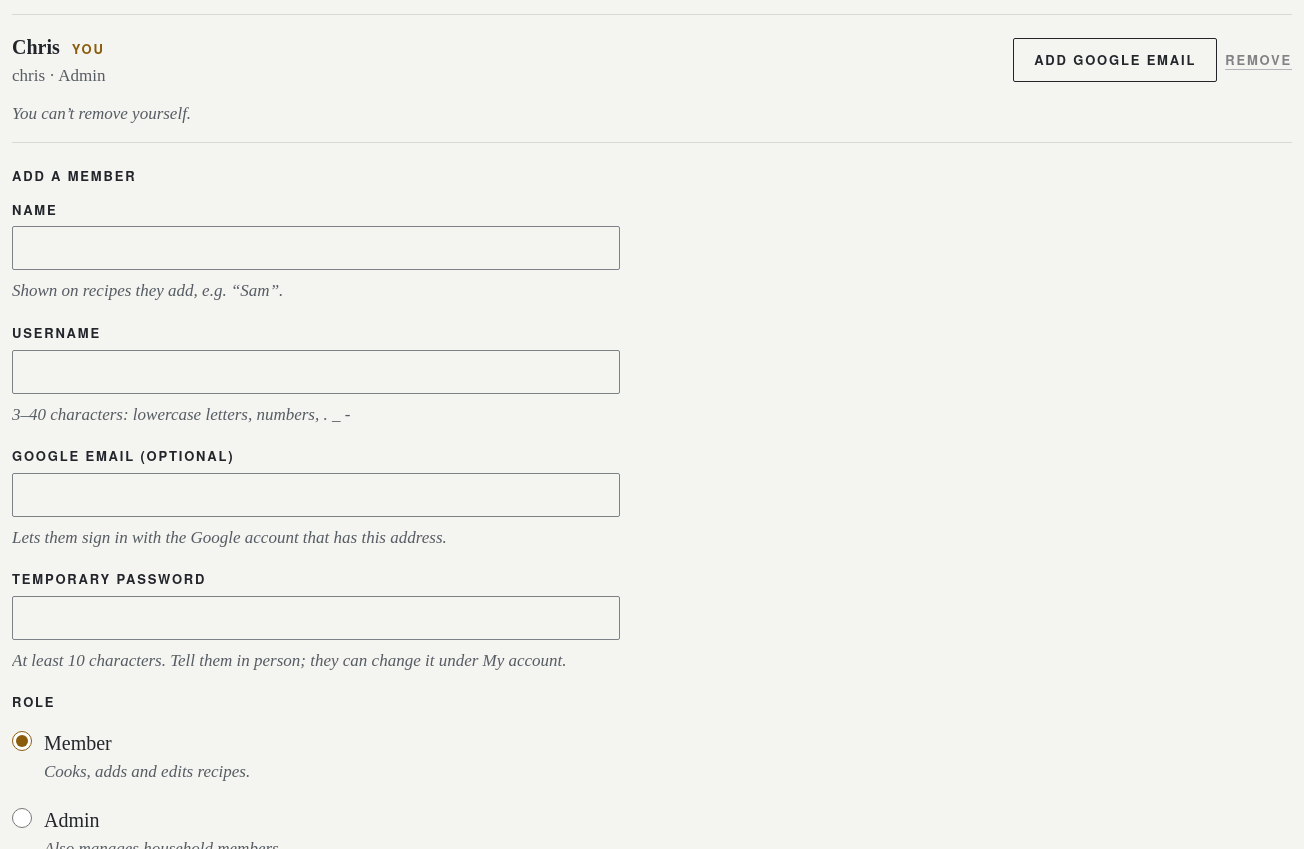
HouseholdSection › shows a taken username on the username field
The image size is (1304, 849).
Type "Sam" into the field labelled "Name" at (316, 248), box [12,226,620,270]
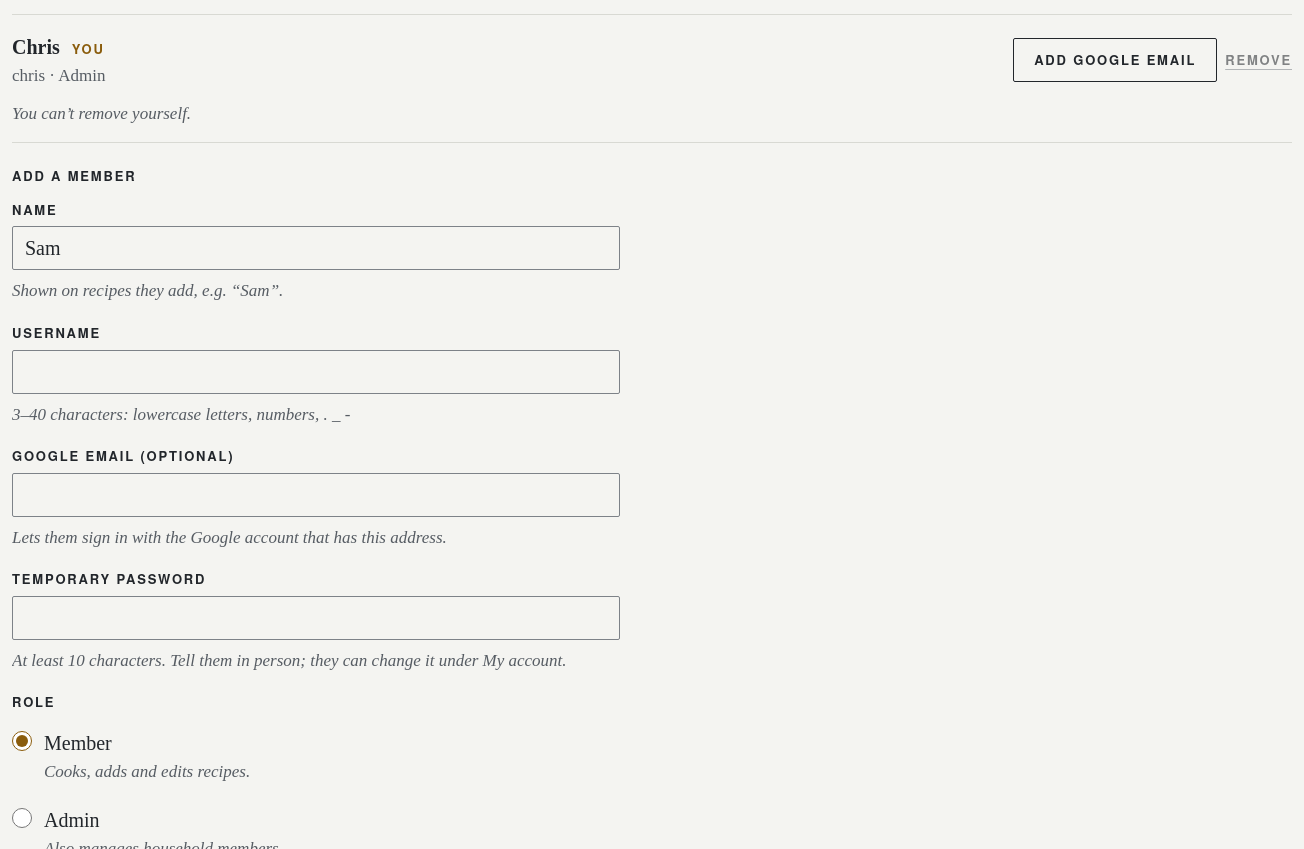
Type "sam" into the field labelled "Username" at (316, 372), box [12,350,620,394]
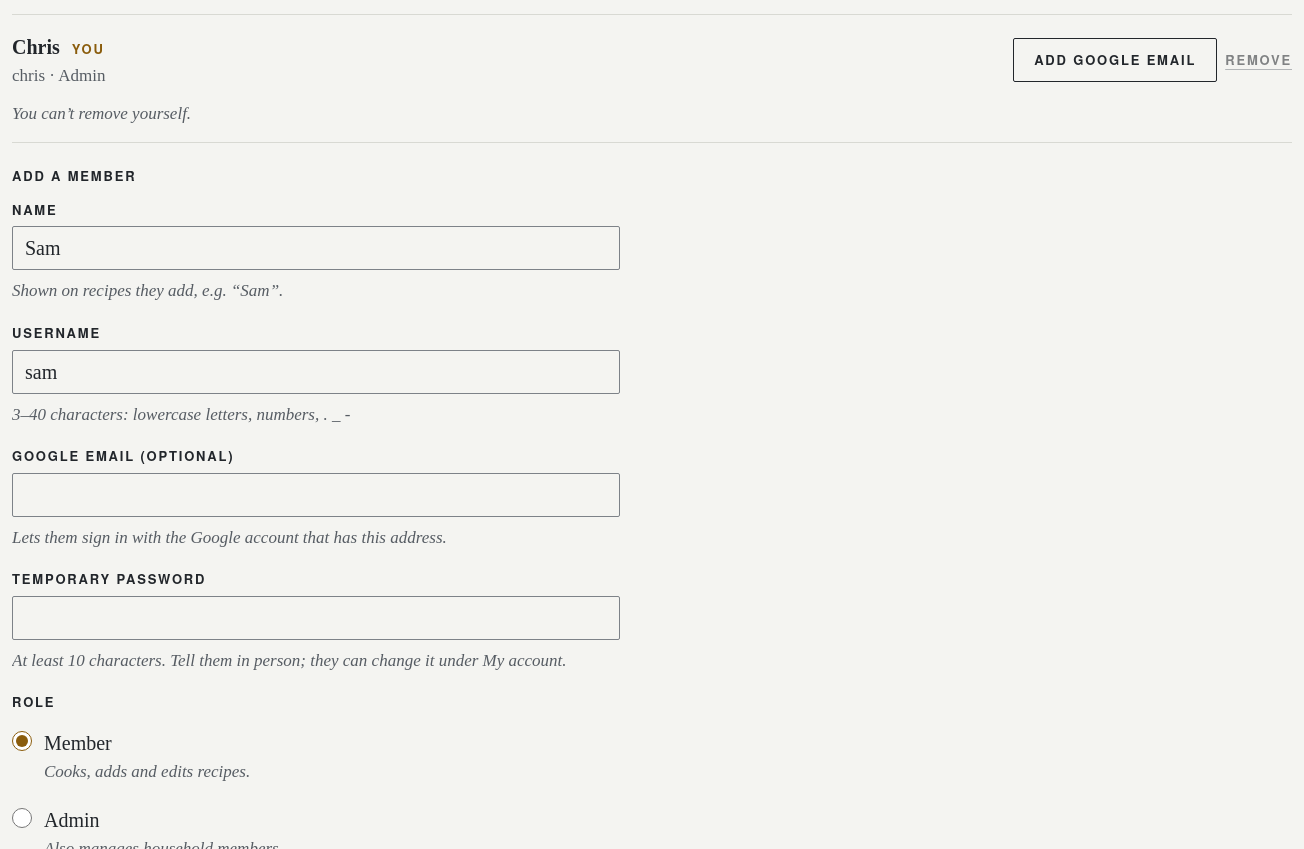
Type "longenough1" into the password field labelled "Temporary password" at (316, 618), box [12,596,620,640]
(page scrolled)
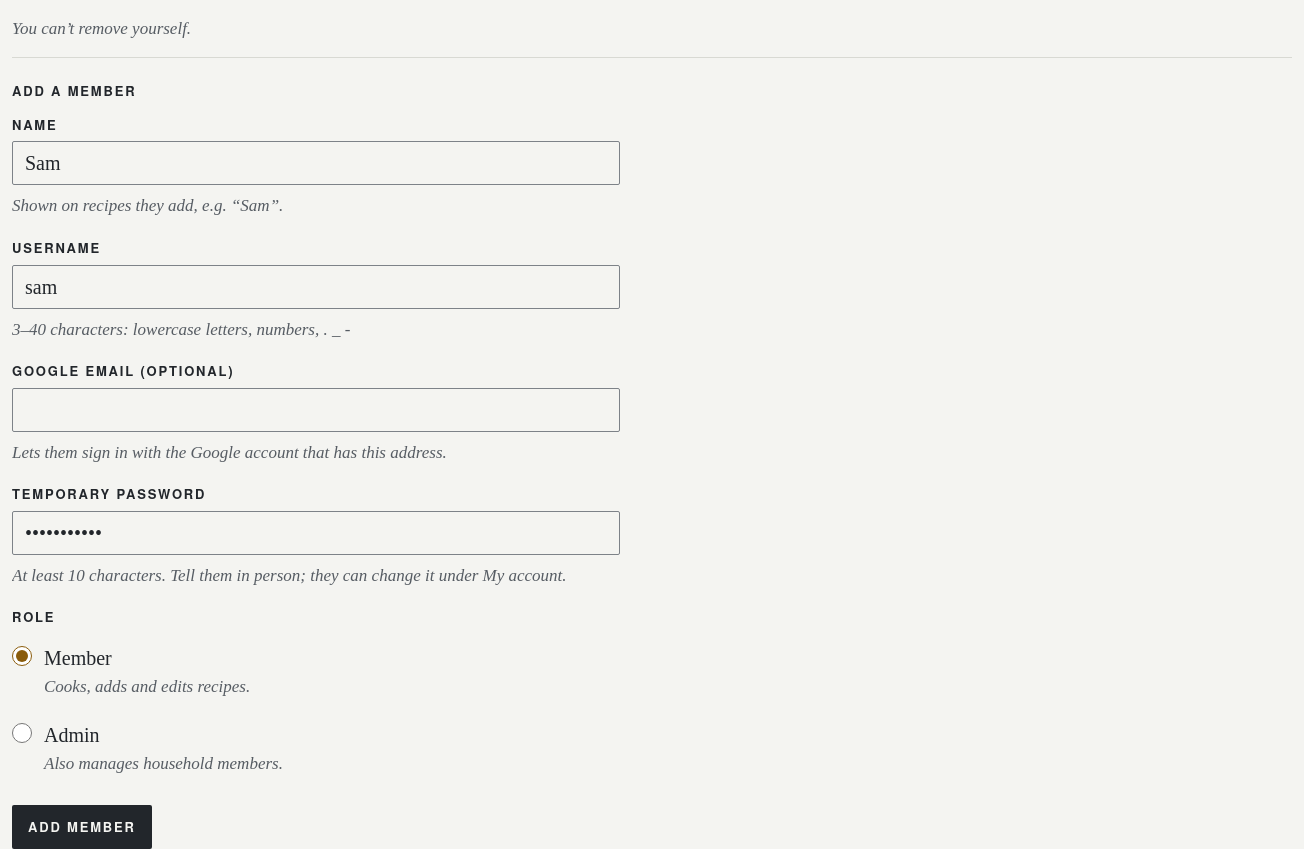
Submit the form, box [12,116,620,848]
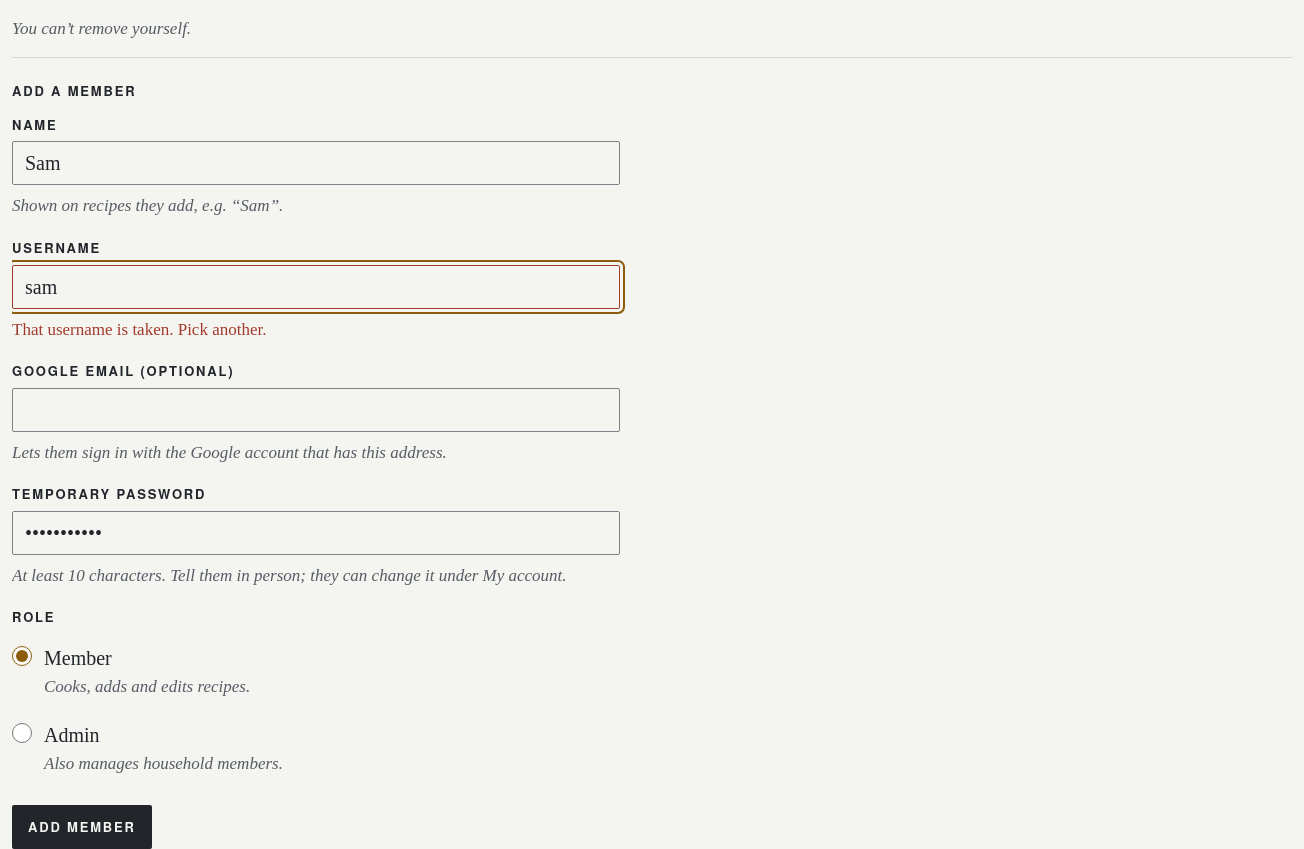
Check: the text "That username is taken. Pick another." is shown, box [12,320,266,338]
